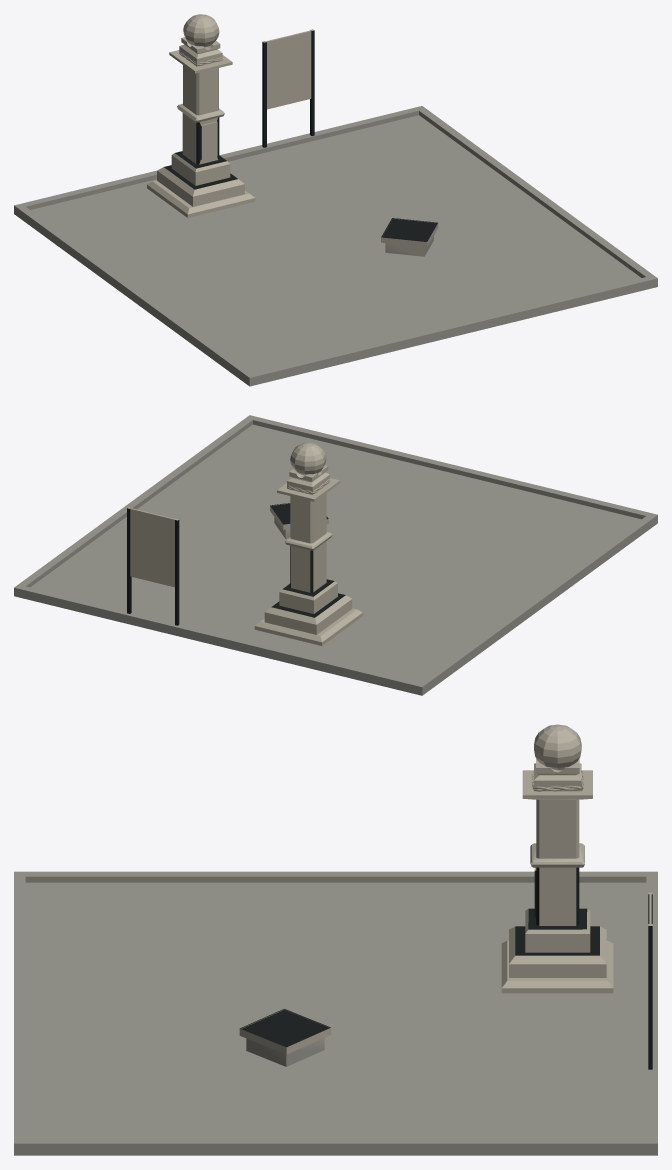
The picture shows the model from 3 angles, top to bottom: view 1: azimuth 30°, elevation 25°; view 2: azimuth 150°, elevation 25°; view 3: azimuth 270°, elevation 25°; orthographic projection. The views are drawn at different scales.
Visible parts, largest first — view 1: pCube10:PIV; view 2: pCube10:PIV; view 3: pCube10:PIV.
Boxes of the visible parts, x1,y1,x2,y2 form: pCube10:PIV: (14,14,657,386); pCube10:PIV: (14,415,657,695); pCube10:PIV: (14,724,657,1155).
Bounding box in the file's own units: 47.07 × 20.73 × 47.07.
